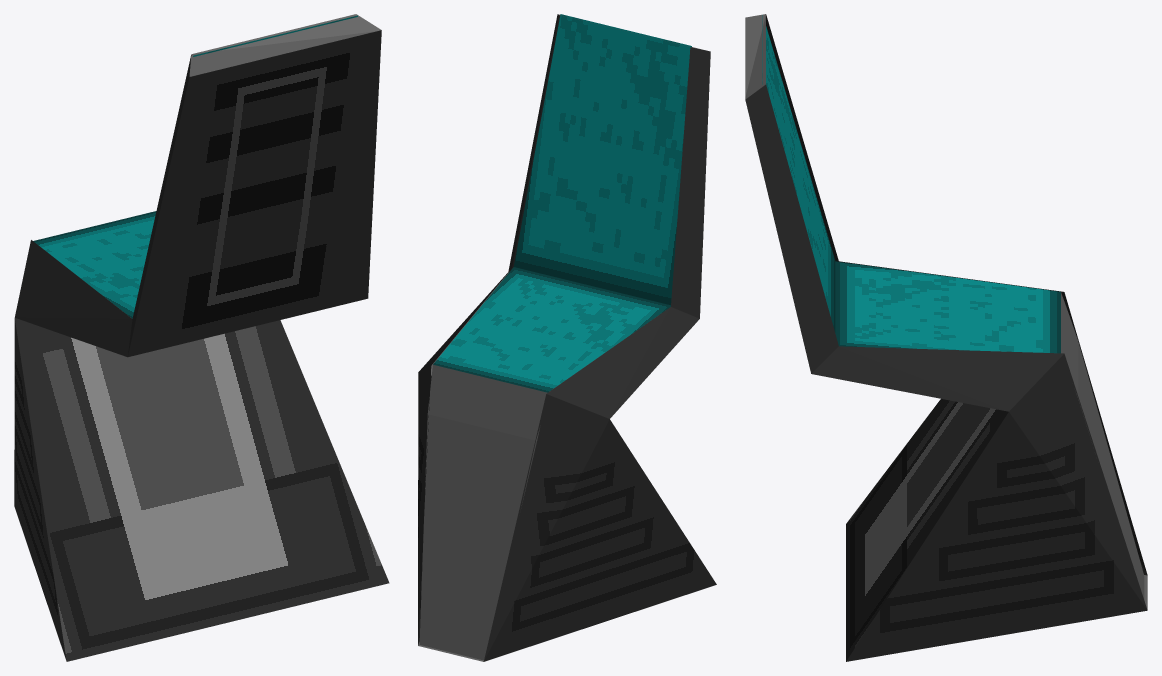
3 renders of one model, left to right at view 1: azimuth 30°, elevation 25°; view 2: azimuth 150°, elevation 25°; view 3: azimuth 270°, elevation 25°, orthographic. The views are drawn at different scales.
Visible parts, largest first — view 1: ss3d_17_exechair; view 2: ss3d_17_exechair; view 3: ss3d_17_exechair.
Part boxes in pixels (x1,y1,x2,y2): ss3d_17_exechair: (14, 14, 389, 661); ss3d_17_exechair: (418, 14, 716, 661); ss3d_17_exechair: (745, 14, 1147, 661).
Bounding box in the file's own units: 0.3305 × 0.6082 × 0.4078.
1 material, 1 textured.
